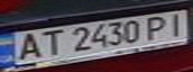0: (121, 18, 148, 45)
2: (66, 25, 93, 54)
3: (106, 20, 127, 47)
4: (90, 21, 112, 52)
A: (9, 30, 45, 62)
I: (160, 11, 190, 38)
P: (139, 13, 175, 42)
T: (33, 28, 66, 57)
